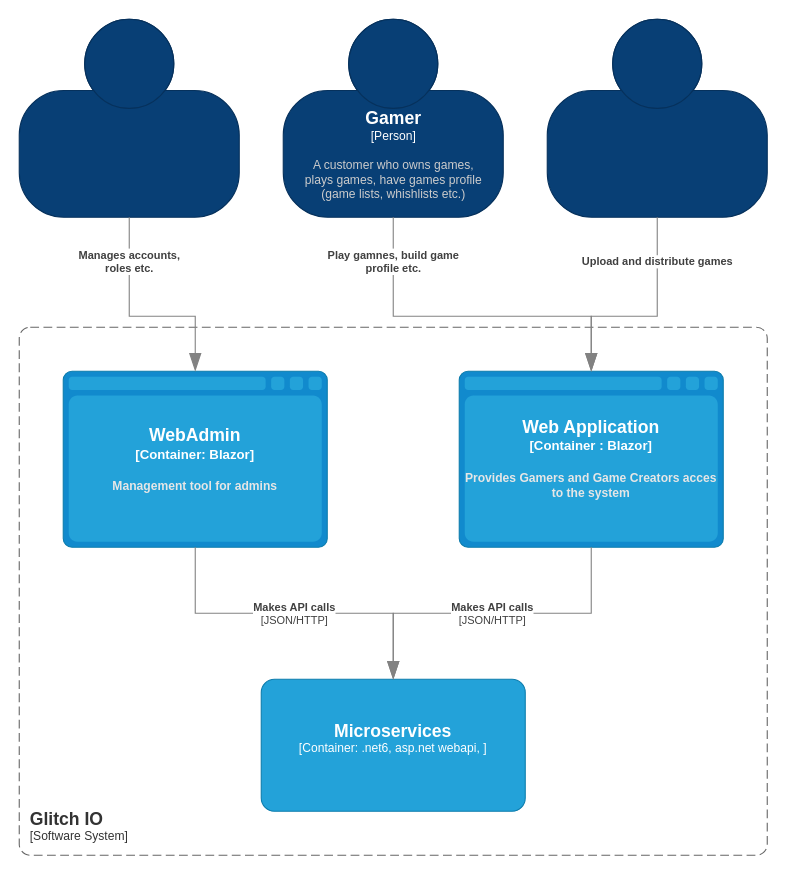
The diagram is 787 pixels wide and 875 high, and some of its shapes have lost their labels. Each missing label, with the centre of its shape:
"Administrator [Person] Manages system: accounts, content, comments etc." goes at point 128,117.
"Game Creator [Person] A customer who creates and distributes games" goes at point 656,117.
